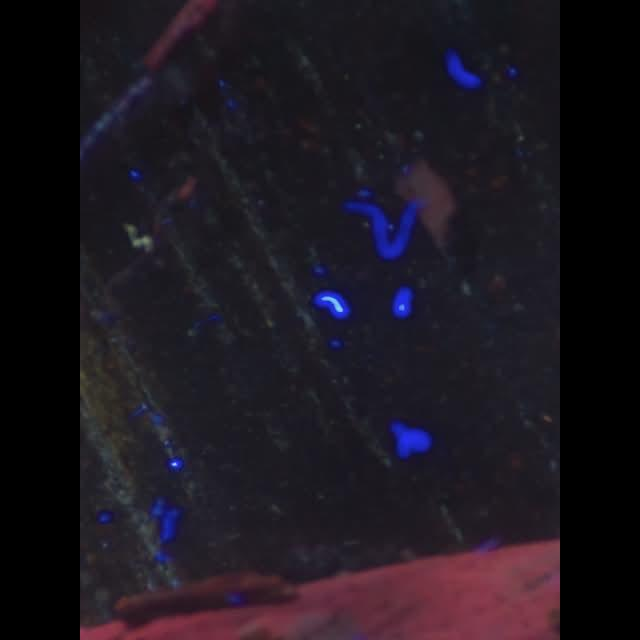Fibre: (124, 224, 156, 254)
